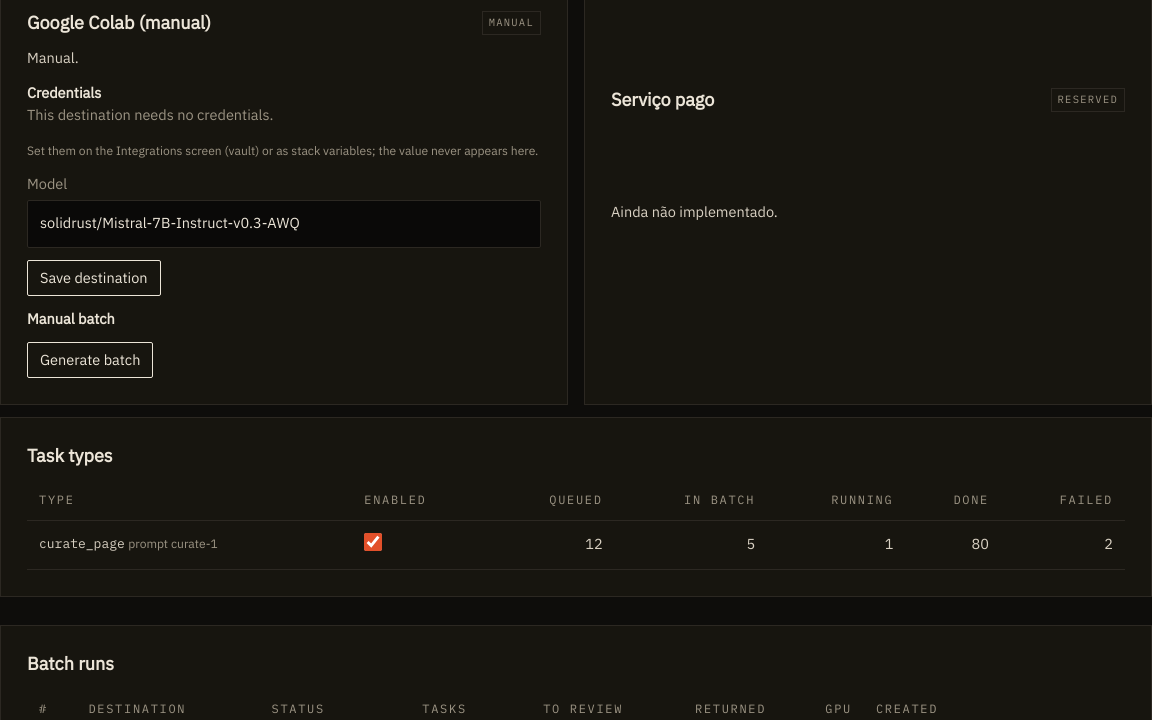
Test: Compute panel › gera o lote manual para o Colab e mostra o pacote à espera de resultados
(page scrolled)
Click the button "Generate batch".
click(90, 360)  # box [27, 342, 153, 378]
(page scrolled)
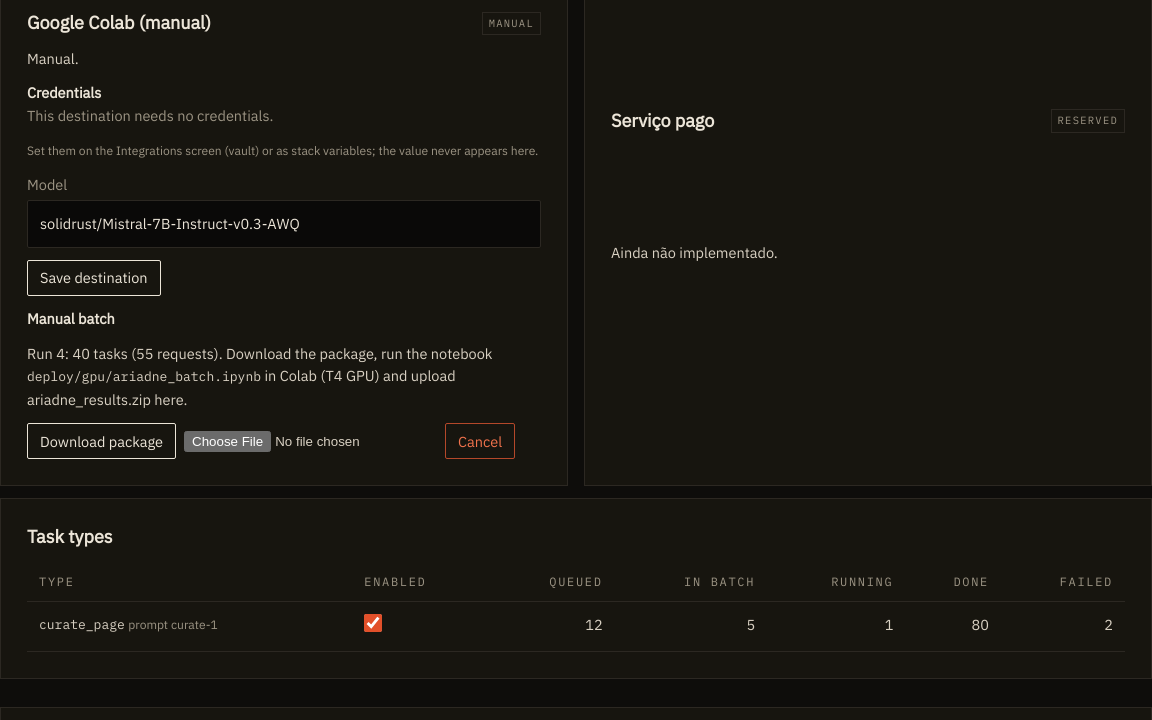
Expected: the button "Download package" is shown, [27, 423, 176, 459]
Expected: the file field named "Results file" is shown, [184, 431, 437, 452]
